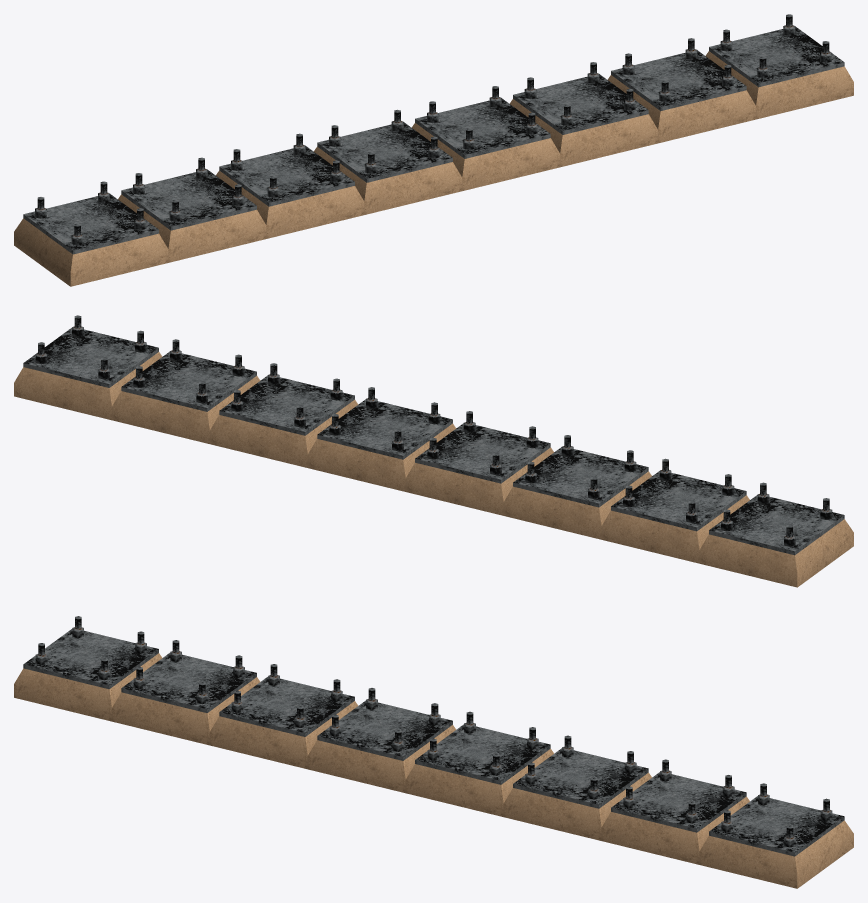
Rendered from SM_plate_decoration_long_01.fbx.
3 views of the same model, one above another, from view 1: azimuth 30°, elevation 25°; view 2: azimuth 150°, elevation 25°; view 3: azimuth 330°, elevation 25° (orthographic).
Visible parts, largest first — view 1: SM_plate_decoration_long_01; view 2: SM_plate_decoration_long_01; view 3: SM_plate_decoration_long_01.
Part boxes in pixels (bbox=[...]): SM_plate_decoration_long_01: bbox=[14, 14, 853, 286]; SM_plate_decoration_long_01: bbox=[14, 315, 853, 587]; SM_plate_decoration_long_01: bbox=[14, 616, 853, 888].
Bounding box in the file's own units: 1200 × 73.11 × 150.
